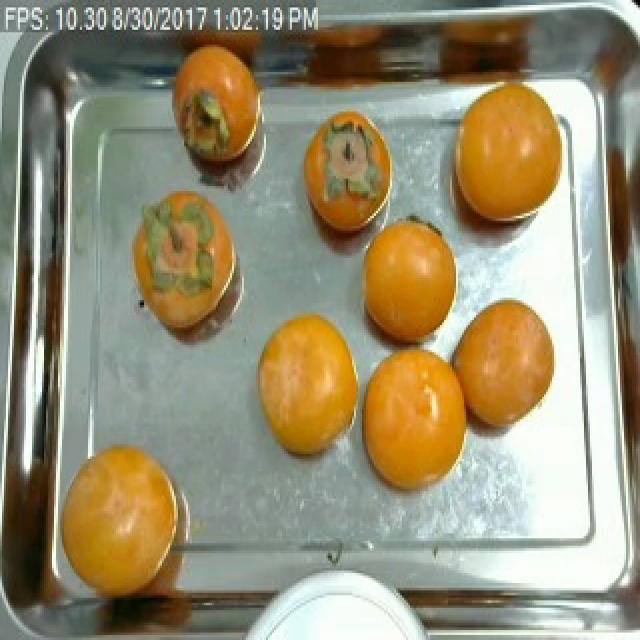Fruit: (54, 429, 194, 605), (348, 332, 480, 508), (434, 80, 572, 240), (246, 303, 364, 476), (346, 203, 472, 364), (132, 176, 246, 347), (442, 288, 564, 447), (290, 99, 404, 251), (154, 34, 266, 174)
